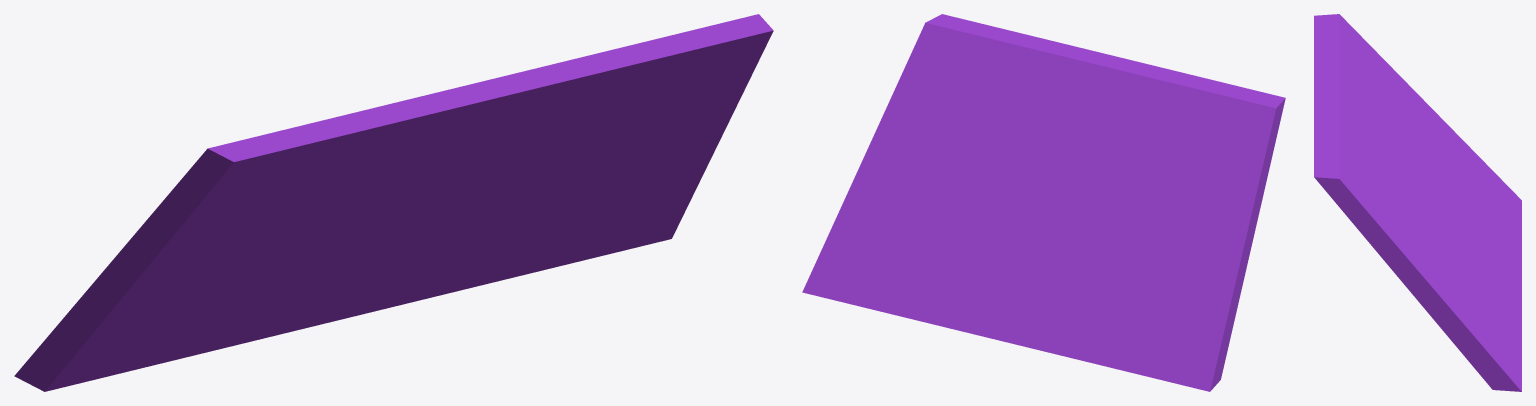
Rendered from Window_125_chunks.fbx.
3 renders of one model, left to right at view 1: azimuth 30°, elevation 25°; view 2: azimuth 150°, elevation 25°; view 3: azimuth 270°, elevation 25°, orthographic. The views are drawn at different scales.
Visible parts, largest first — view 1: Window_125_2, Window_125_0, Window_125_3, Window_125_1; view 2: Window_125_1, Window_125_2, Window_125_3, Window_125_0; view 3: Window_125_2, Window_125_1, Window_125_3, Window_125_0.
Part boxes in pixels (left/top/right/bottom): Window_125_2: left=427, top=14, right=773, bottom=216; Window_125_0: left=14, top=199, right=432, bottom=391; Window_125_3: left=130, top=76, right=503, bottom=240; Window_125_1: left=245, top=204, right=688, bottom=342; Window_125_1: left=802, top=191, right=1116, bottom=368; Window_125_2: left=835, top=14, right=1113, bottom=219; Window_125_3: left=1049, top=56, right=1285, bottom=222; Window_125_0: left=1073, top=191, right=1264, bottom=391; Window_125_2: left=1314, top=96, right=1472, bottom=354; Window_125_1: left=1423, top=190, right=1521, bottom=391; Window_125_3: left=1314, top=14, right=1434, bottom=191; Window_125_0: left=1413, top=89, right=1521, bottom=243.
Bounding box in the file's own units: 1571 × 763 × 720.
